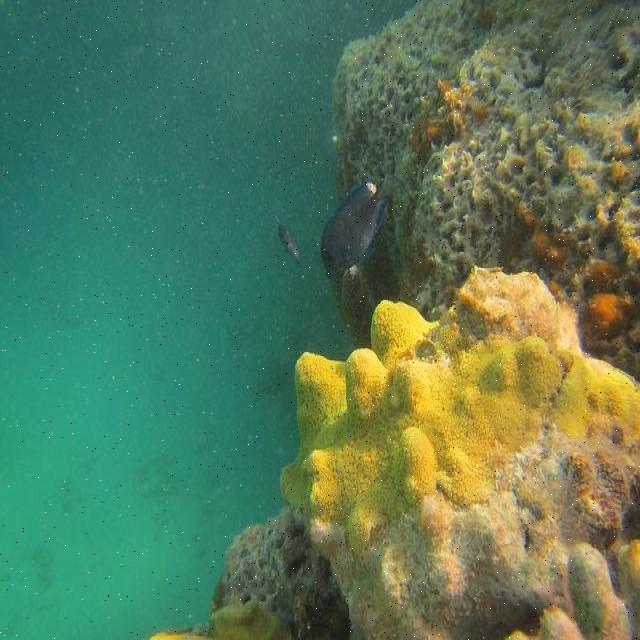fish: (321, 142, 418, 289), (275, 219, 301, 269)
reefs: (149, 0, 639, 639)
